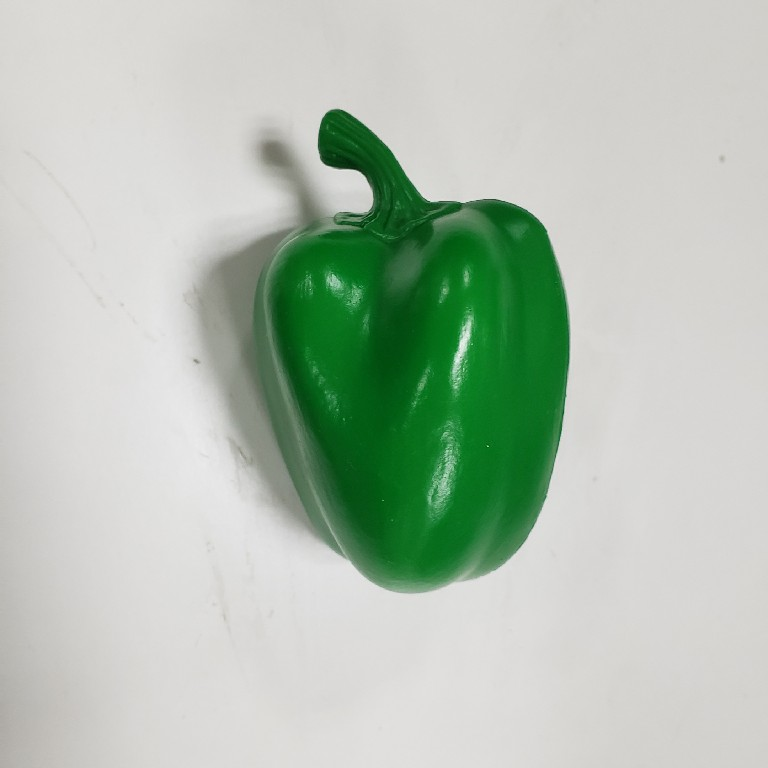fruit_pepper: (246, 105, 575, 600)
